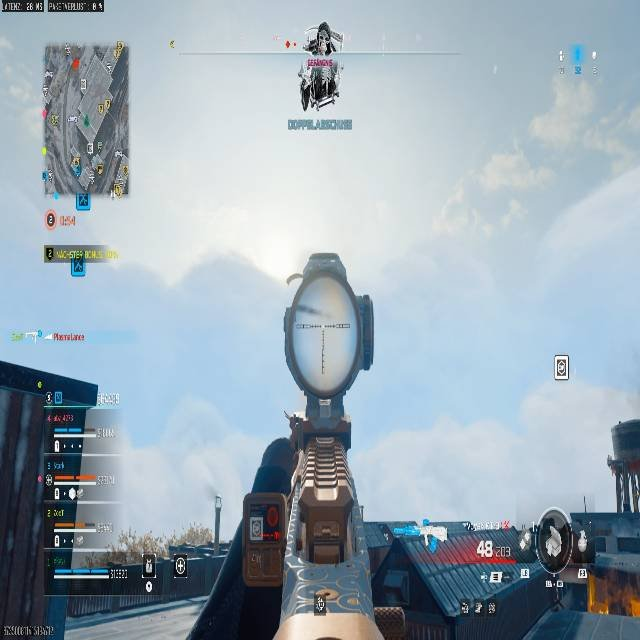player: (297, 20, 343, 112)
